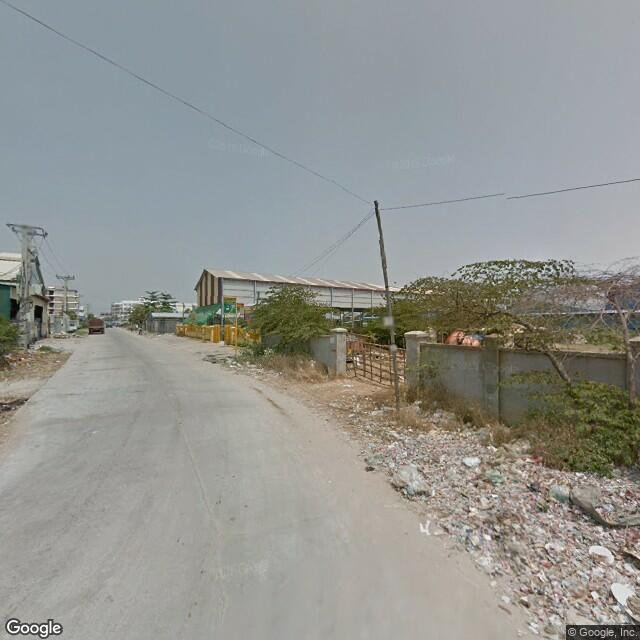litter: (551, 482, 622, 529), (387, 464, 434, 497), (606, 576, 640, 612), (467, 496, 502, 529), (586, 543, 617, 562), (462, 454, 481, 464)
